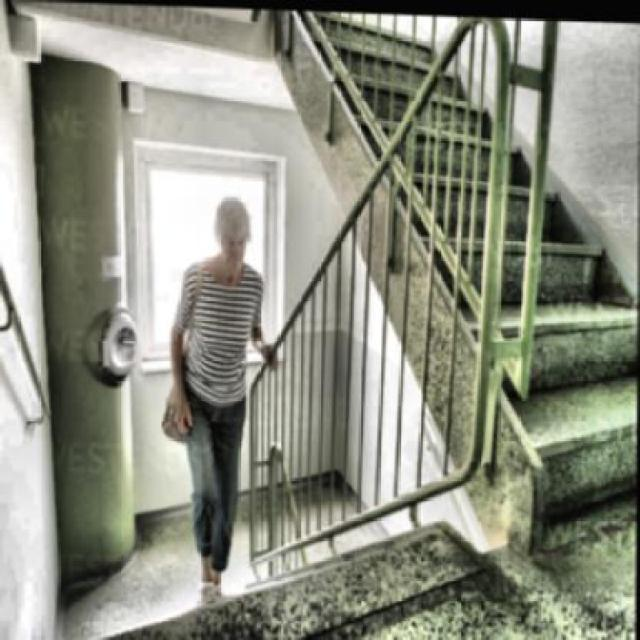stair: (252, 8, 640, 535)
